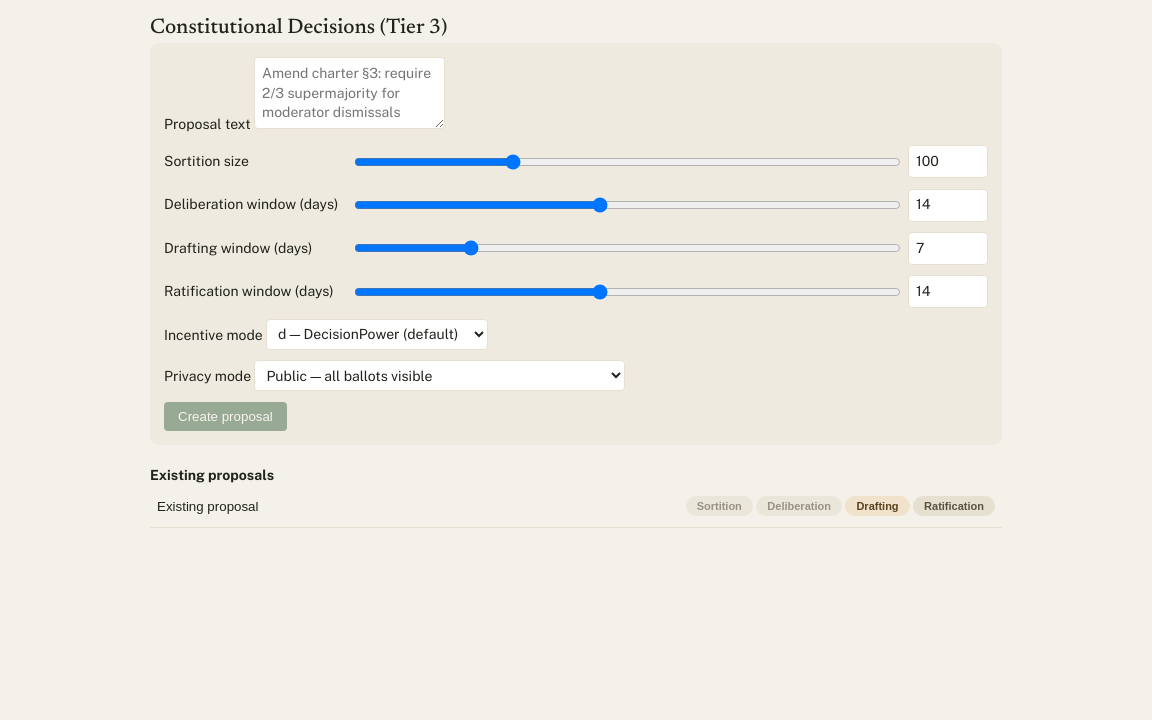
Test: Tier3ProposalPanel › hides Relaunch for a viewer who is neither the creator nor an admin
This screenshot has width=1152, height=720.
Click the text "Existing proposal".
click(208, 506)  # box [157,498,258,514]
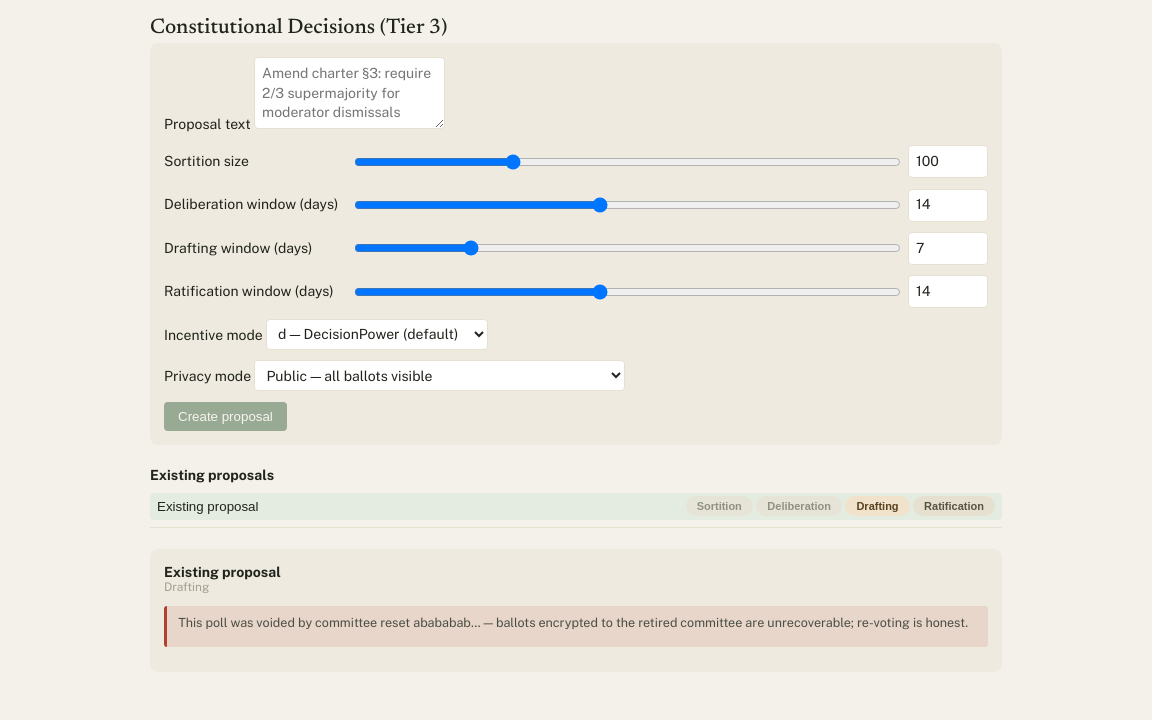
Expected: the message with test id "voided-banner" is shown, [164,606,988,647]
